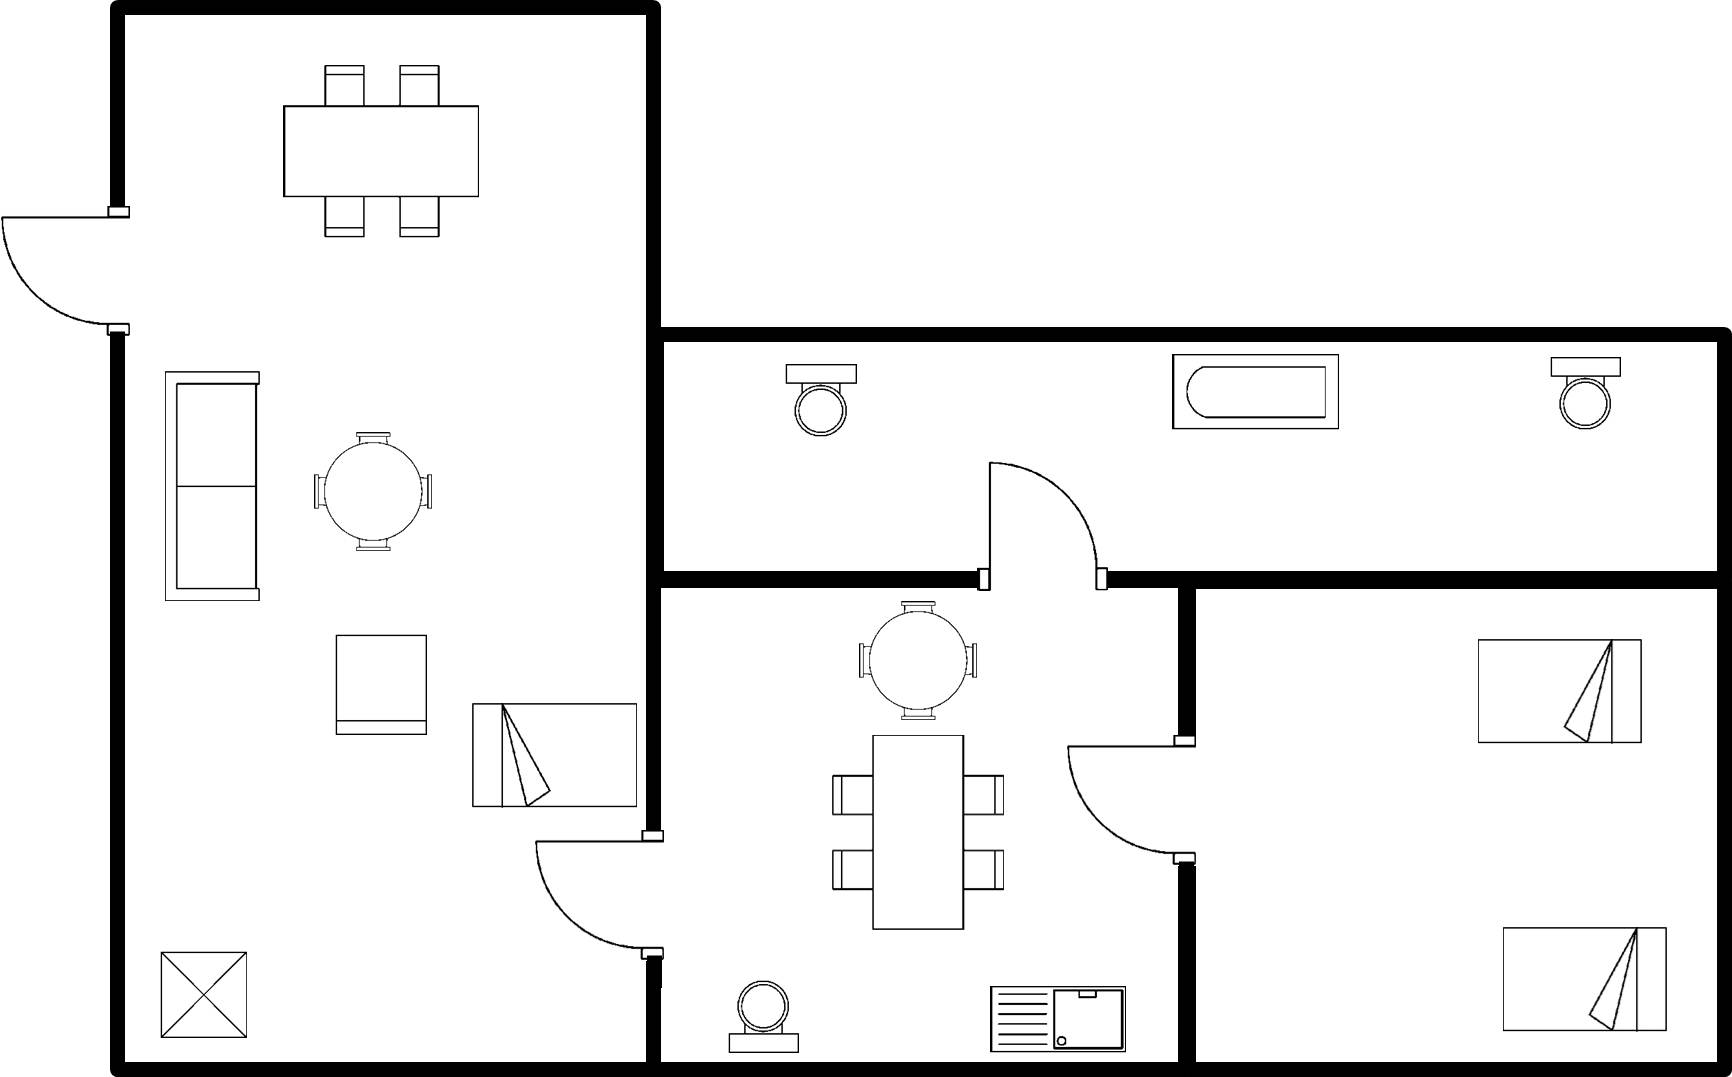bed: (1489, 920, 1677, 1041), (1470, 631, 1650, 755), (465, 694, 644, 816)
coffee_table: (151, 943, 258, 1048)
dining_table: (819, 729, 1016, 942), (271, 54, 487, 245)
large_sink: (1541, 349, 1633, 442), (776, 352, 870, 443), (720, 973, 808, 1058)
large_sofa: (152, 358, 271, 615)
round_table: (302, 420, 445, 560), (846, 592, 991, 729)
sink: (982, 979, 1134, 1059)
small_sofa: (323, 626, 439, 748)
tub: (1162, 347, 1347, 442)
